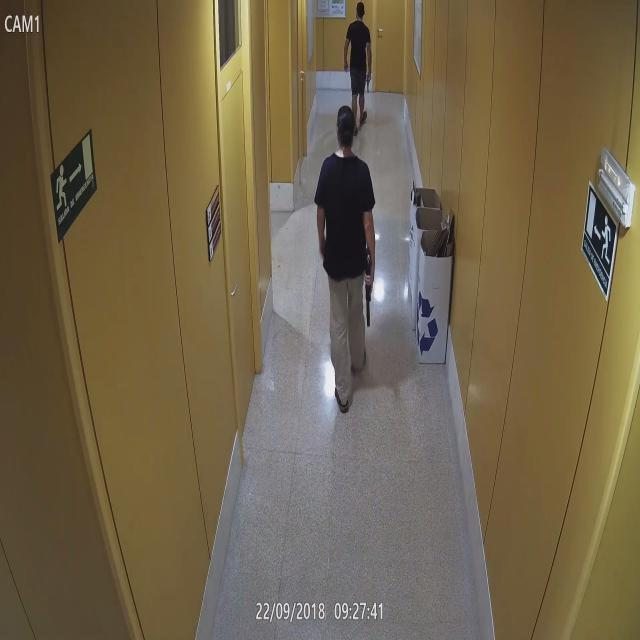weapon: (363, 252, 373, 326), (365, 76, 372, 92)
